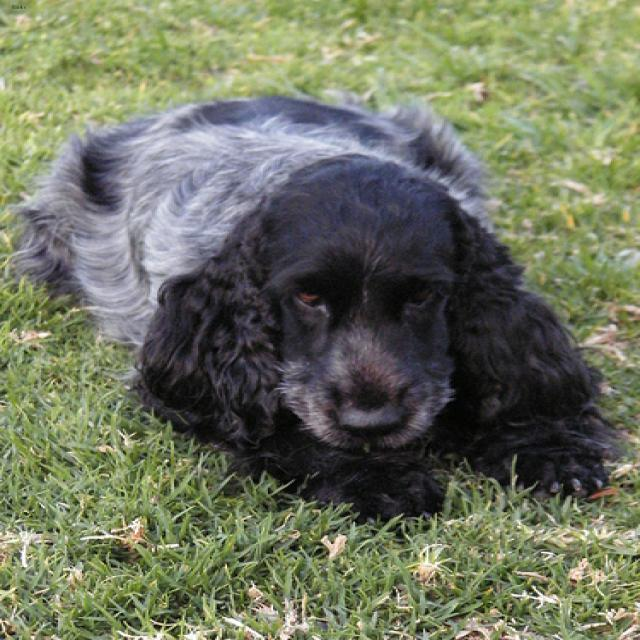dog-english_cocker_spaniel: (2, 82, 631, 544)
